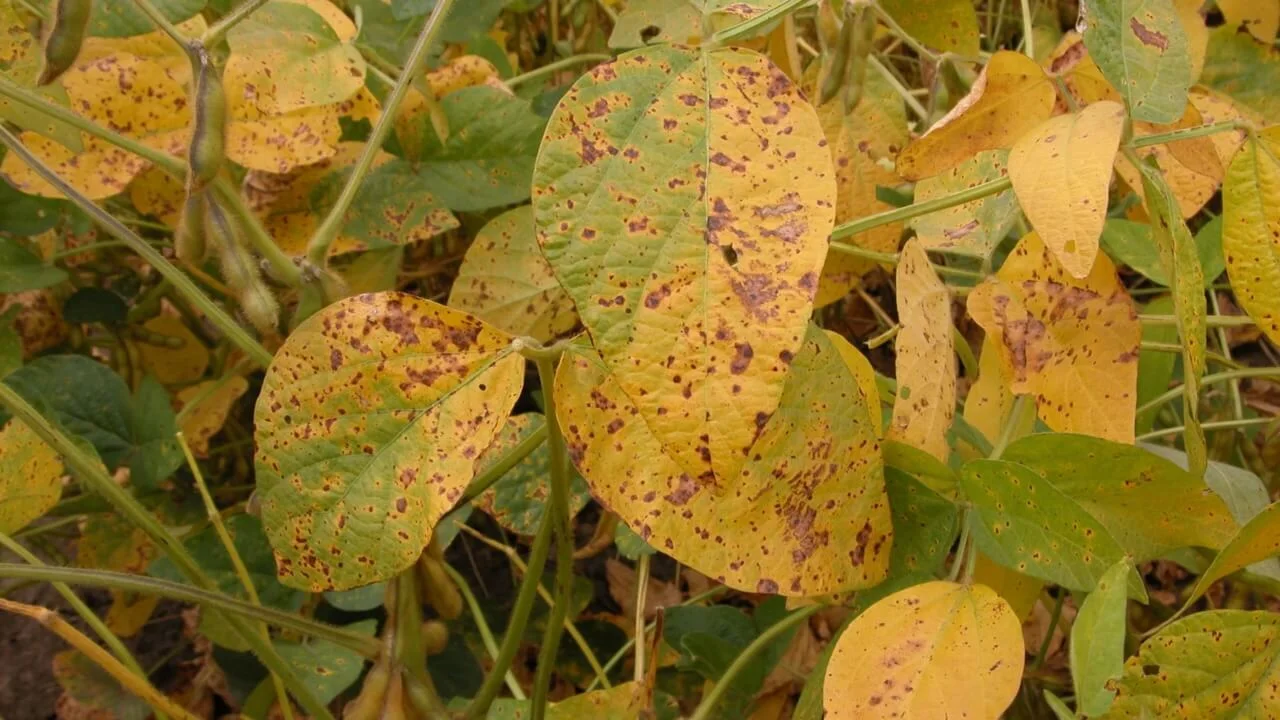healthy: (4, 356, 141, 458), (1060, 553, 1133, 720), (661, 600, 771, 700)
leaf scorch(50%): (523, 40, 839, 502), (547, 307, 894, 586), (248, 291, 528, 593), (998, 411, 1241, 562), (961, 453, 1159, 614), (4, 45, 195, 203), (235, 136, 469, 262), (1105, 602, 1280, 720), (222, 0, 365, 115), (410, 86, 534, 210)
leaf scorch(90%): (966, 221, 1145, 447), (820, 576, 1030, 720), (1002, 101, 1132, 280), (897, 51, 1061, 177), (889, 235, 957, 468)
soybean: (197, 196, 283, 339), (190, 59, 229, 181), (841, 6, 882, 118), (816, 18, 849, 104)
